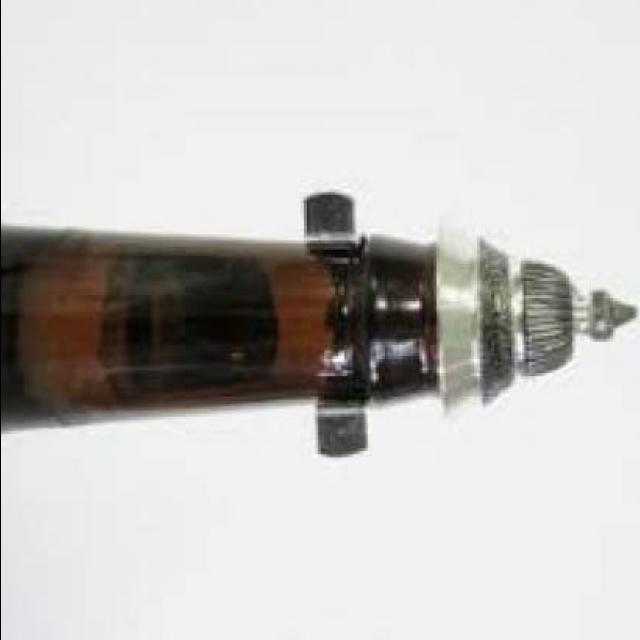kaca: (0, 227, 442, 430)
